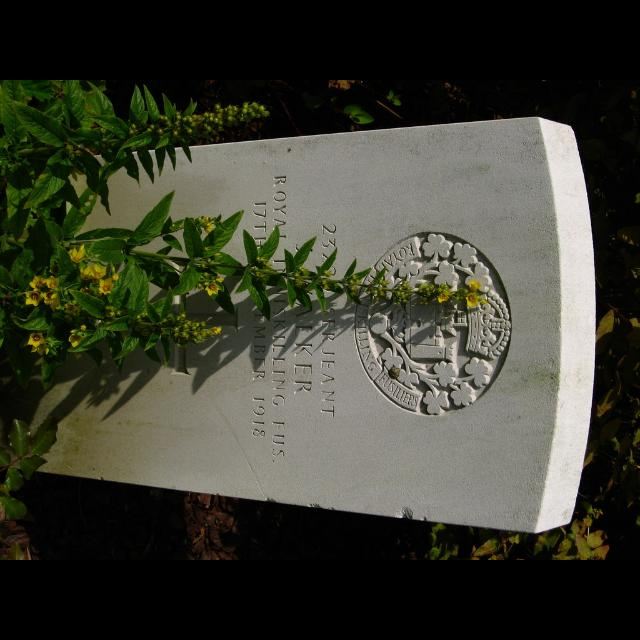Flower: (25, 330, 47, 350), (84, 263, 108, 281), (68, 246, 86, 264), (464, 292, 482, 310), (31, 277, 47, 293), (28, 288, 42, 306), (100, 277, 114, 293), (204, 284, 218, 296)
